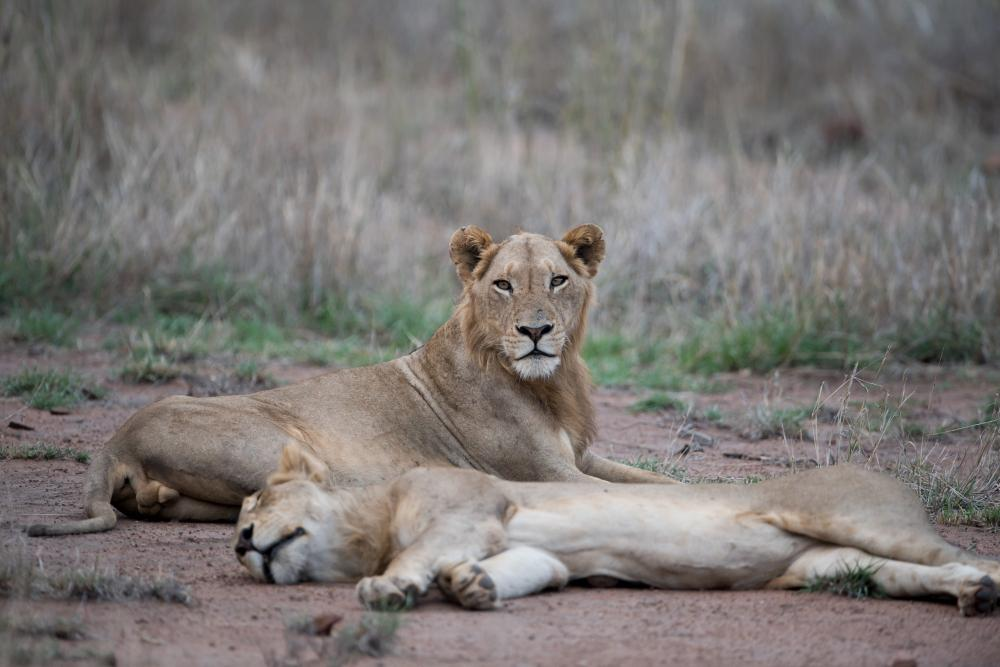lioness: (22, 225, 706, 555)
